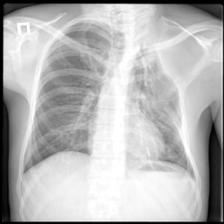tuberculosis: (19, 15, 202, 186)
